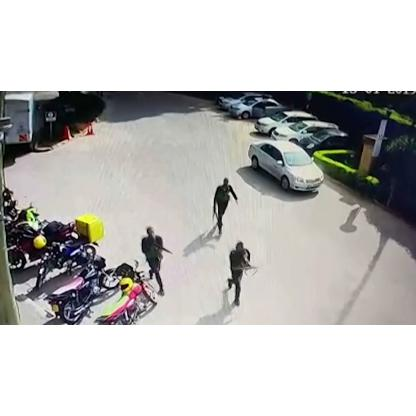gun: (152, 243, 174, 255)
